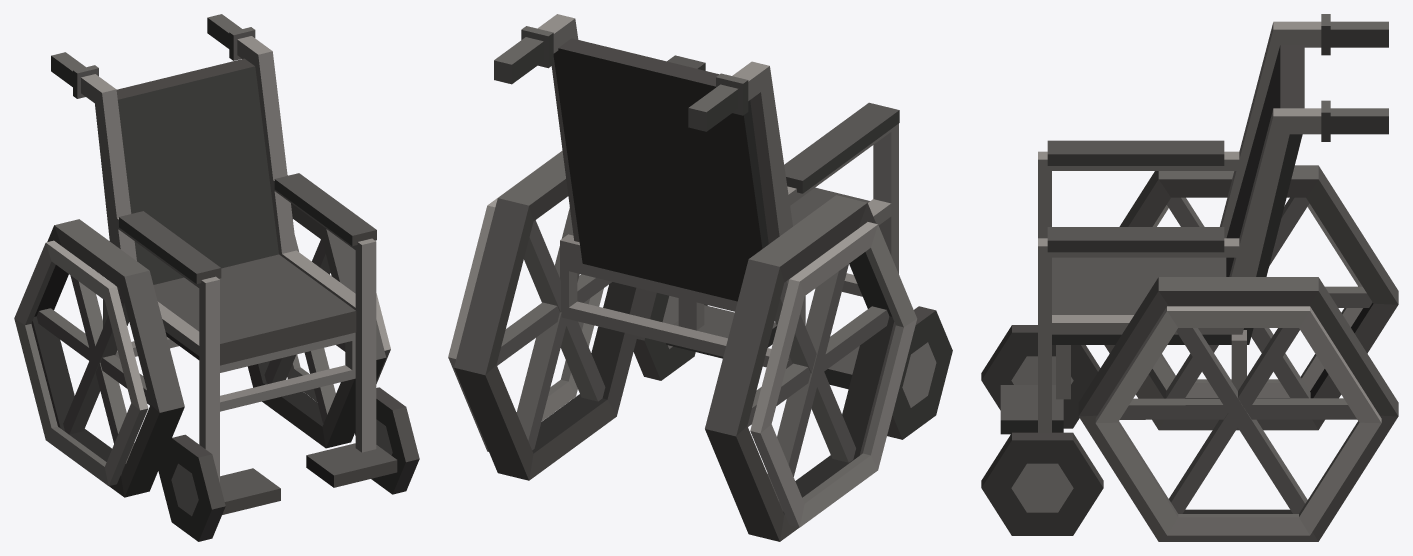
File: AI_Prop_WheelChair.fbx
3 renders of one model, left to right at view 1: azimuth 30°, elevation 25°; view 2: azimuth 150°, elevation 25°; view 3: azimuth 270°, elevation 25°, orthographic. The views are drawn at different scales.
Parts seen in each view (by area): view 1: AI_Prop_WheelChair; view 2: AI_Prop_WheelChair; view 3: AI_Prop_WheelChair.
Boxes of the visible parts, x1=… form: AI_Prop_WheelChair: x1=14, y1=14, x2=419, y2=541; AI_Prop_WheelChair: x1=448, y1=14, x2=952, y2=541; AI_Prop_WheelChair: x1=981, y1=14, x2=1398, y2=541.
Bounding box in the file's own units: 1.66 × 2.31 × 2.1.
